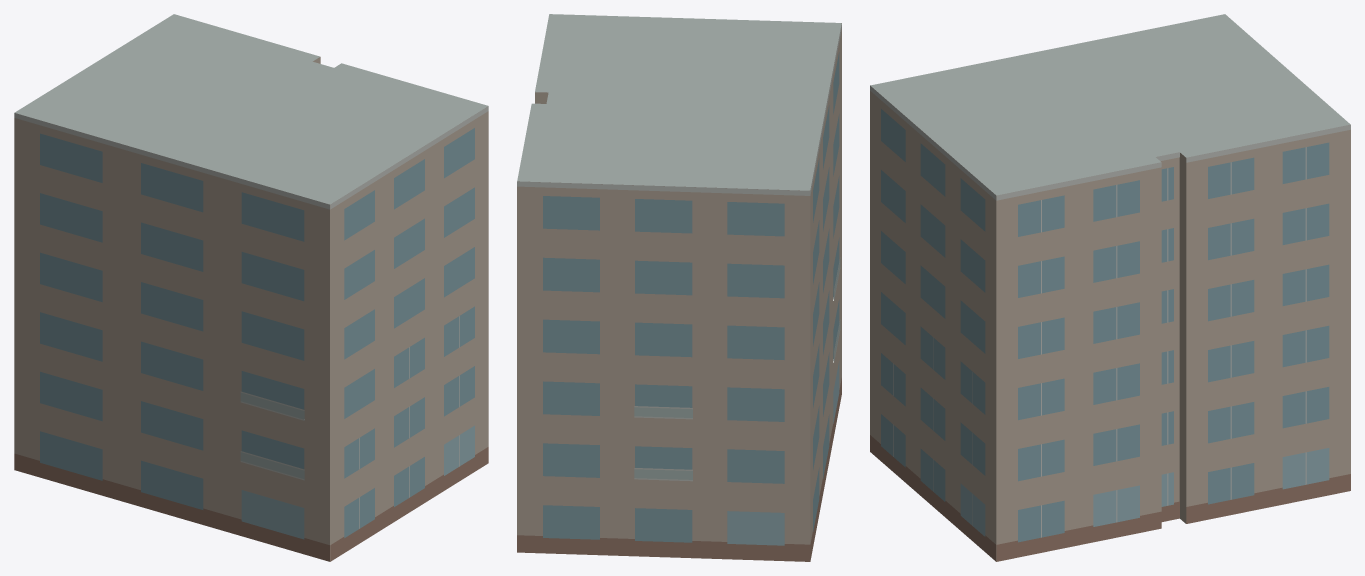
Rendered from survey-upis-32730130.glb.
3 renders of one model, left to right at view 1: azimuth 30°, elevation 25°; view 2: azimuth 150°, elevation 25°; view 3: azimuth 270°, elevation 25°, orthographic. The views are drawn at different scales.
Parts seen in each view (by area): view 1: survey-upis-32730130.tmp; view 2: survey-upis-32730130.tmp; view 3: survey-upis-32730130.tmp.
Boxes of the visible parts, x1,y1,x2,y2 form: survey-upis-32730130.tmp: [14, 14, 488, 561]; survey-upis-32730130.tmp: [517, 14, 841, 561]; survey-upis-32730130.tmp: [870, 14, 1350, 561].
Bounding box in the file's own units: 18.5 × 17.4 × 20.7.
